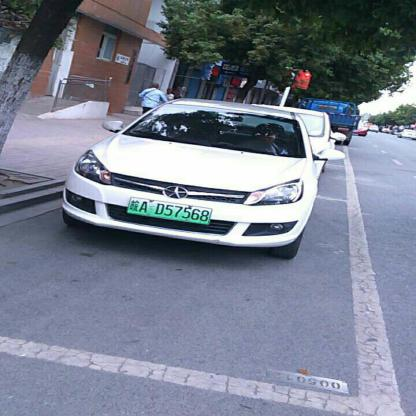lp: (126, 195, 212, 223)
